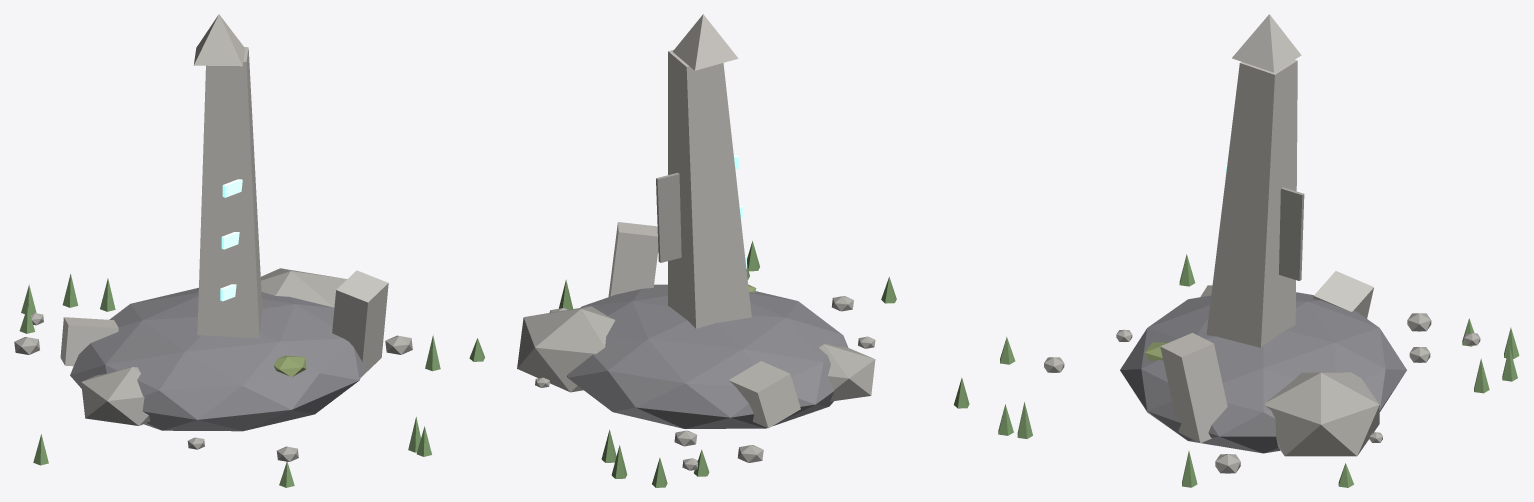
Rendered from landmark.glb.
3 views of the same model, side by side, from view 1: azimuth 30°, elevation 25°; view 2: azimuth 150°, elevation 25°; view 3: azimuth 270°, elevation 25° (orthographic). The views are drawn at different scales.
Visible parts, largest first — view 1: lm_rock1, lm_monolith, lm_small1, lm_rock3, lm_rock2, lm_cap, lm_broken, lm_moss5; view 2: lm_rock1, lm_monolith, lm_rock2, lm_small1, lm_broken, lm_rock3, lm_insc, lm_cap; view 3: lm_rock1, lm_monolith, lm_rock2, lm_small1, lm_cap, lm_insc, lm_broken.
Boxes of the visible parts, bbox=[...] form: lm_rock1: bbox=[70, 287, 366, 431]; lm_monolith: bbox=[197, 47, 262, 338]; lm_small1: bbox=[332, 270, 388, 377]; lm_rock3: bbox=[81, 366, 150, 425]; lm_rock2: bbox=[260, 268, 346, 307]; lm_cap: bbox=[193, 14, 244, 66]; lm_broken: bbox=[60, 317, 118, 366]; lm_moss5: bbox=[273, 355, 306, 376]; lm_rock1: bbox=[567, 284, 848, 428]; lm_monolith: bbox=[668, 49, 751, 328]; lm_rock2: bbox=[517, 306, 615, 392]; lm_small1: bbox=[608, 222, 658, 296]; lm_broken: bbox=[729, 361, 800, 428]; lm_rock3: bbox=[818, 343, 875, 401]; lm_insc: bbox=[656, 172, 681, 262]; lm_cap: bbox=[672, 14, 738, 70]; lm_rock1: bbox=[1120, 292, 1406, 453]; lm_monolith: bbox=[1206, 59, 1297, 347]; lm_rock2: bbox=[1265, 372, 1379, 456]; lm_small1: bbox=[1160, 333, 1227, 443]; lm_cap: bbox=[1232, 14, 1301, 72]; lm_insc: bbox=[1279, 187, 1304, 280]; lm_broken: bbox=[1313, 271, 1373, 318].
Bounding box in the file's own units: 1.05 × 0.9249 × 1.09.
